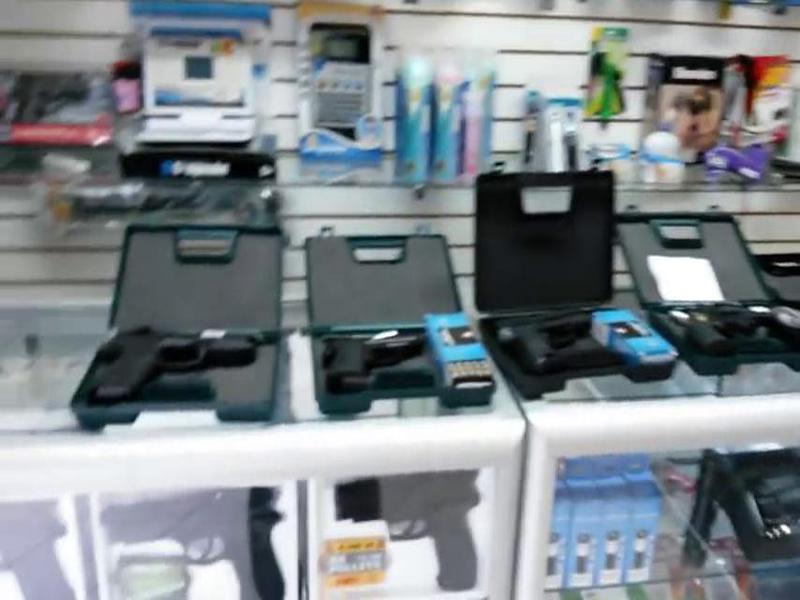Pistola: (63, 306, 268, 430), (305, 304, 471, 410), (469, 287, 602, 411)
